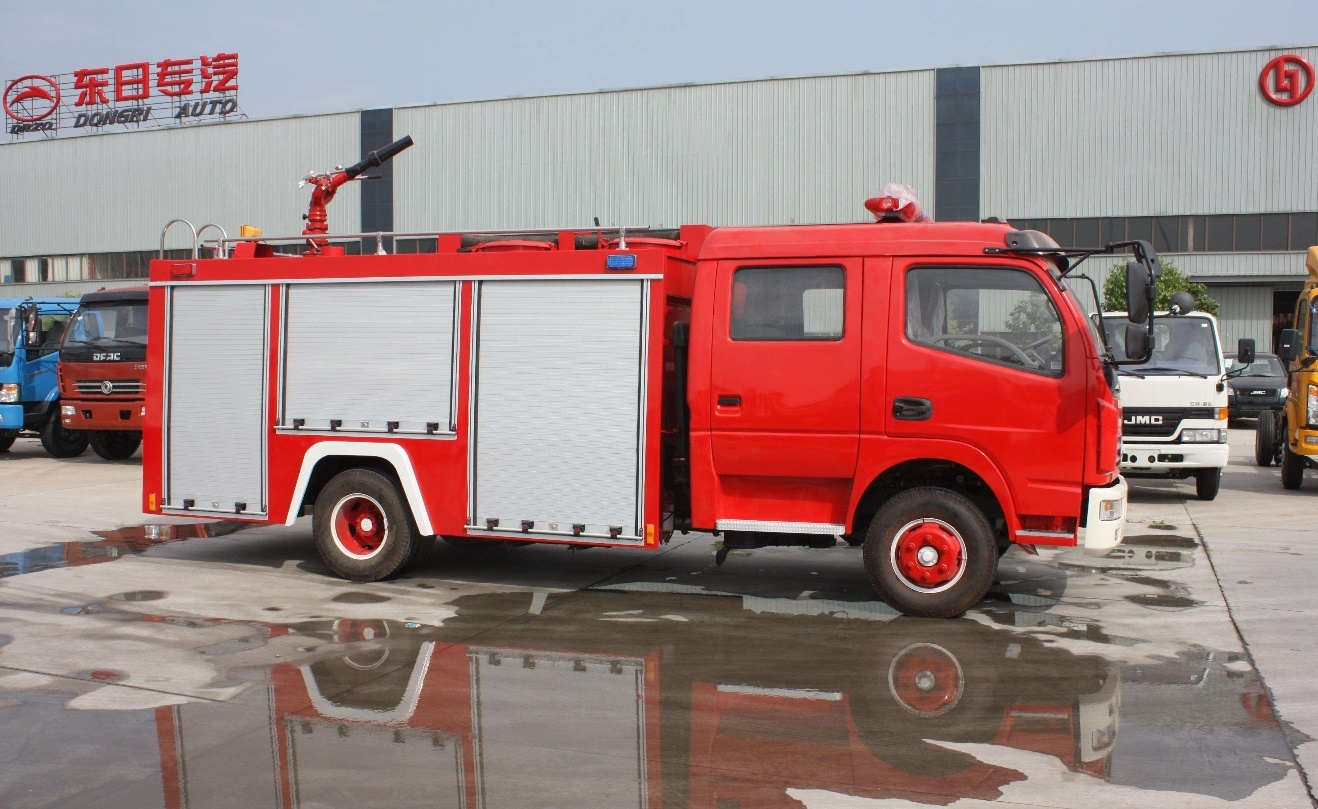fire engine: (140, 178, 1129, 607)
